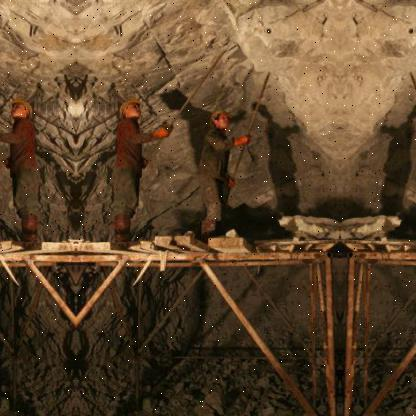helmet: (118, 92, 146, 118), (9, 92, 37, 118), (207, 107, 232, 129)
